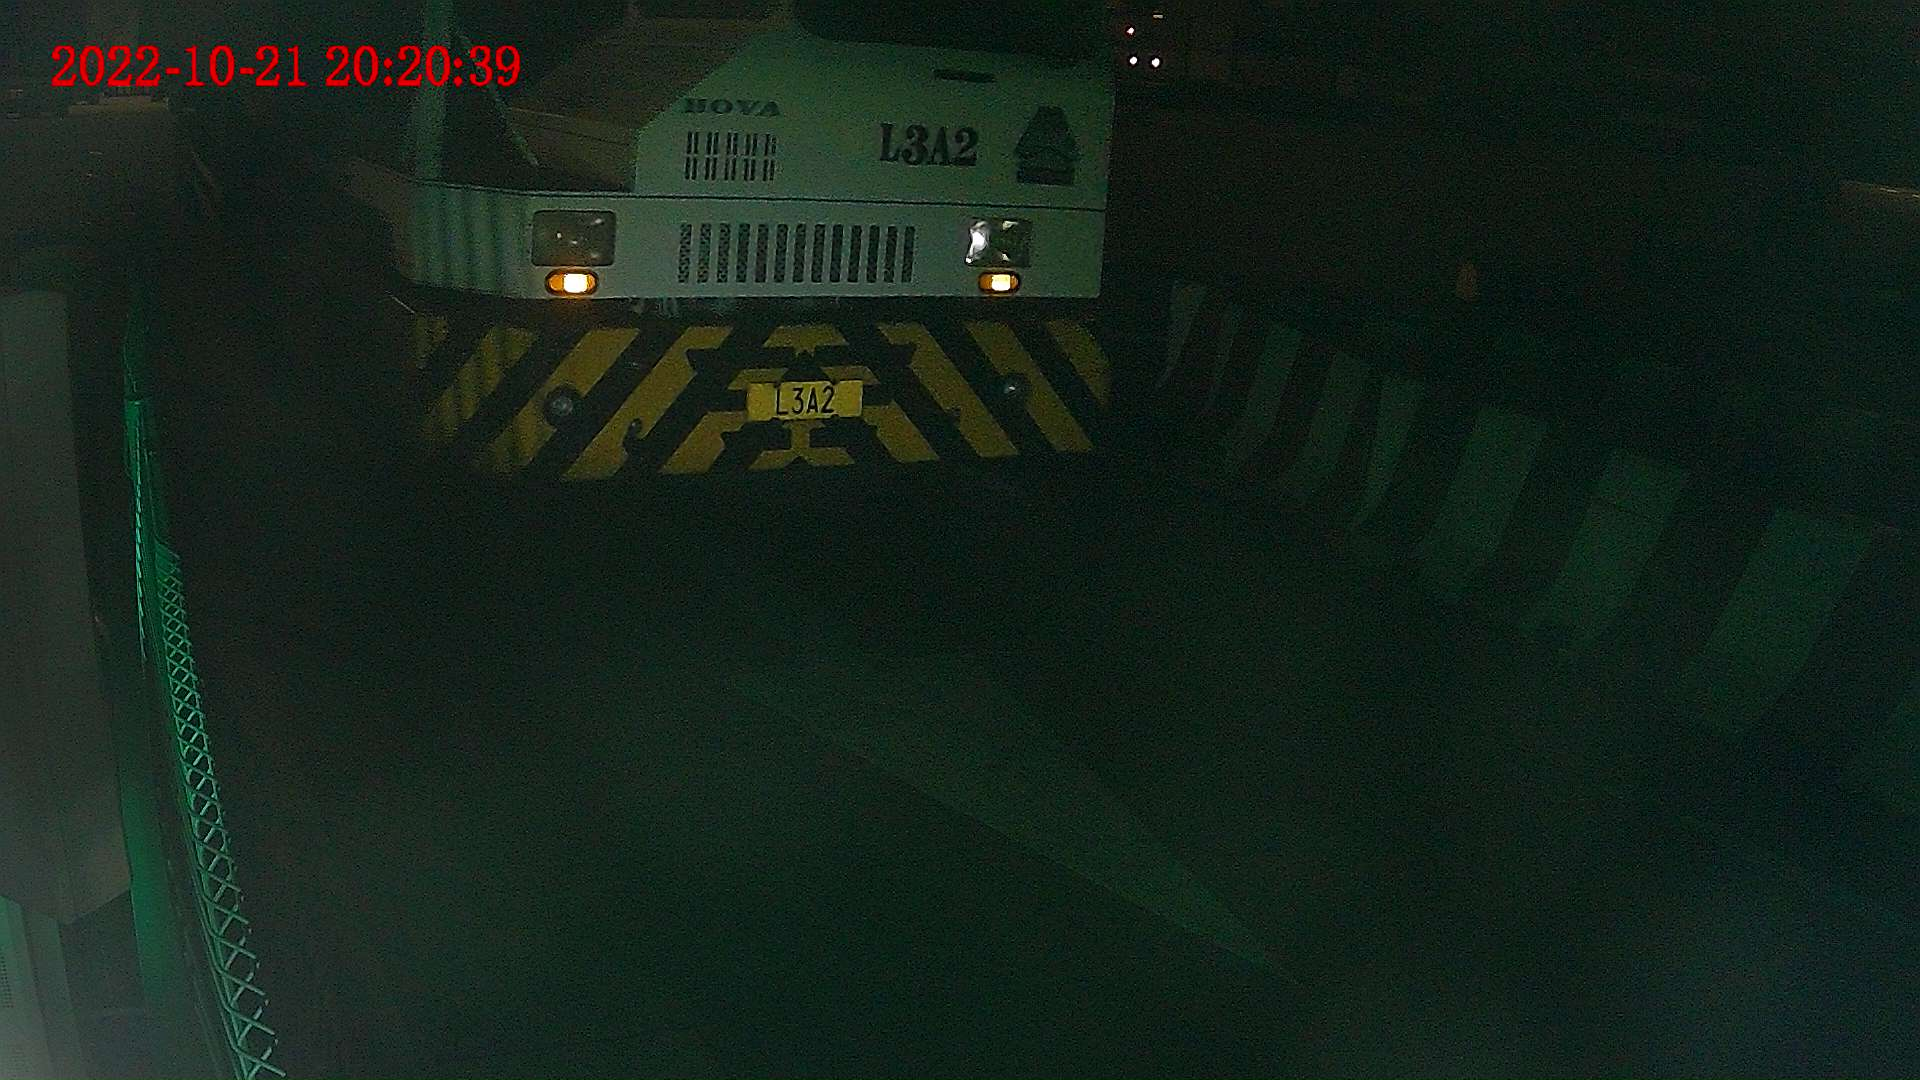head: (316, 1, 1125, 485)
plate: (745, 382, 866, 418)
